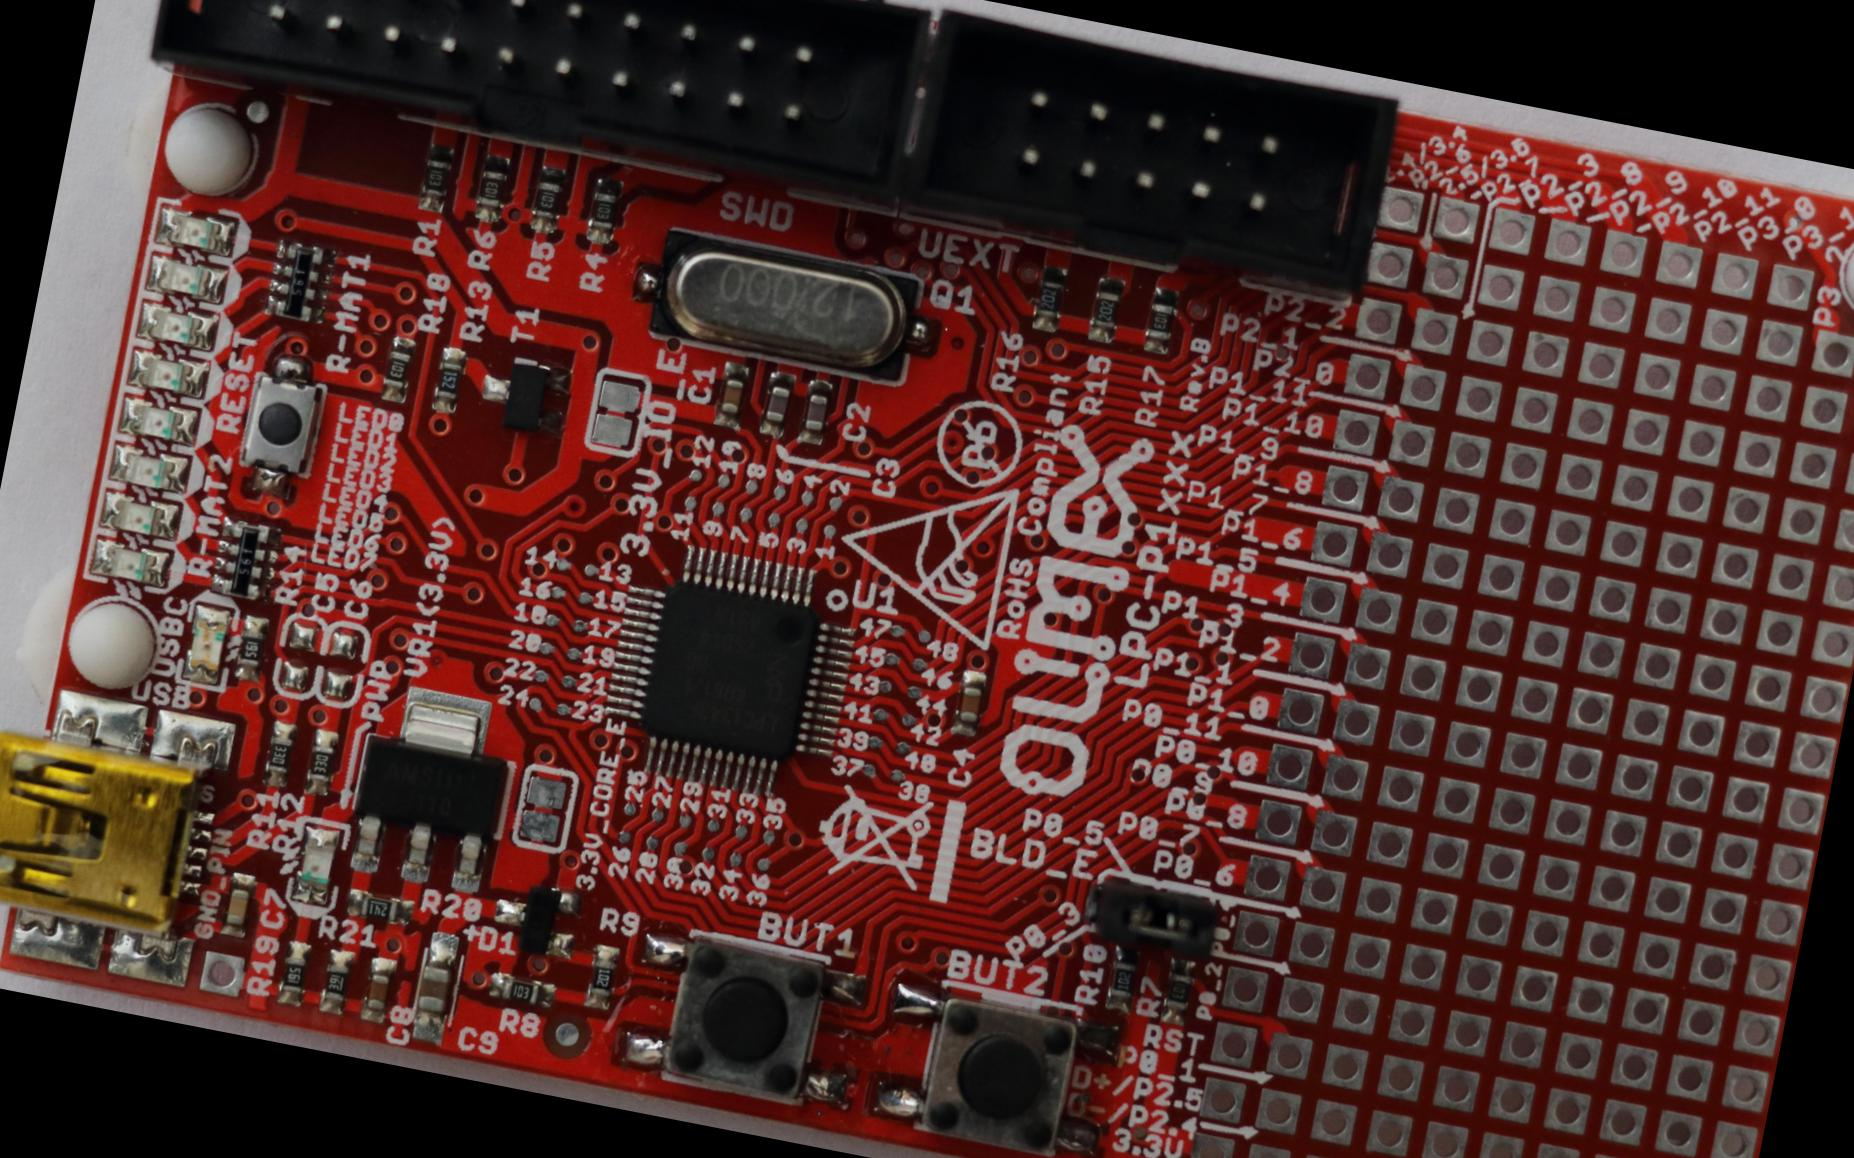Button: (615, 922, 868, 1110), (871, 978, 1125, 1157), (228, 347, 333, 503)
Capacitor: (715, 361, 750, 428), (360, 954, 393, 1023), (952, 668, 986, 734), (761, 372, 794, 438), (799, 378, 831, 443), (223, 874, 252, 936)
Clock: (624, 224, 945, 388)
Connector: (1189, 180, 1853, 1157), (147, 0, 934, 212), (901, 8, 1399, 300), (0, 647, 230, 955)
Diode: (488, 876, 582, 957)
Electrolytic Capacitor: (408, 930, 466, 1048)
IC: (592, 536, 868, 807), (340, 678, 522, 894)
Jumper: (1092, 872, 1220, 956)
Led: (122, 341, 216, 404), (96, 482, 188, 546), (102, 436, 196, 498), (86, 530, 178, 592), (132, 295, 225, 356), (113, 390, 205, 451), (288, 818, 346, 912), (140, 249, 232, 308), (150, 200, 240, 260), (178, 604, 238, 688)
Pads: (508, 760, 583, 856), (579, 364, 653, 460), (267, 607, 329, 702), (312, 618, 372, 712)
Resistor Jumper: (266, 240, 339, 323), (212, 516, 282, 600)
Resistor Network: (233, 614, 272, 683), (474, 154, 511, 224), (418, 142, 453, 211), (531, 167, 566, 235), (1088, 278, 1124, 344), (487, 972, 556, 1006), (433, 346, 468, 413), (1160, 959, 1196, 1024), (1106, 947, 1142, 1011), (262, 719, 296, 786), (584, 943, 618, 1010), (381, 336, 416, 401), (1143, 288, 1178, 353), (278, 940, 312, 1005), (587, 179, 621, 244), (1032, 266, 1066, 331), (320, 947, 352, 1012), (306, 729, 336, 794), (360, 896, 400, 921)
Test Point: (197, 947, 249, 999), (763, 508, 784, 530), (553, 698, 574, 720), (754, 852, 774, 874), (563, 642, 584, 662), (531, 664, 550, 686), (696, 842, 718, 861), (882, 649, 902, 669), (860, 760, 880, 780), (669, 836, 690, 855), (580, 560, 599, 580), (575, 587, 594, 607), (870, 704, 890, 723), (558, 672, 578, 691), (676, 811, 696, 830), (742, 476, 760, 497), (542, 609, 560, 630), (685, 466, 704, 485), (826, 493, 844, 513), (770, 482, 788, 502), (680, 492, 698, 512), (550, 583, 568, 603), (527, 694, 545, 714), (704, 817, 724, 835), (732, 822, 750, 842), (799, 486, 816, 507), (914, 627, 932, 646), (887, 622, 906, 640), (909, 655, 928, 673), (793, 516, 811, 534), (570, 616, 588, 634), (866, 732, 884, 750), (648, 805, 666, 823), (642, 832, 660, 850), (820, 521, 837, 540), (538, 639, 555, 658), (615, 827, 634, 844), (726, 848, 743, 867), (736, 504, 753, 522), (554, 556, 572, 573), (903, 685, 921, 702), (899, 710, 917, 727), (894, 738, 912, 755), (620, 800, 638, 817), (708, 499, 724, 518), (888, 766, 907, 782), (714, 471, 730, 489), (761, 827, 776, 846), (878, 678, 894, 694)
Transistor: (476, 351, 574, 437)
